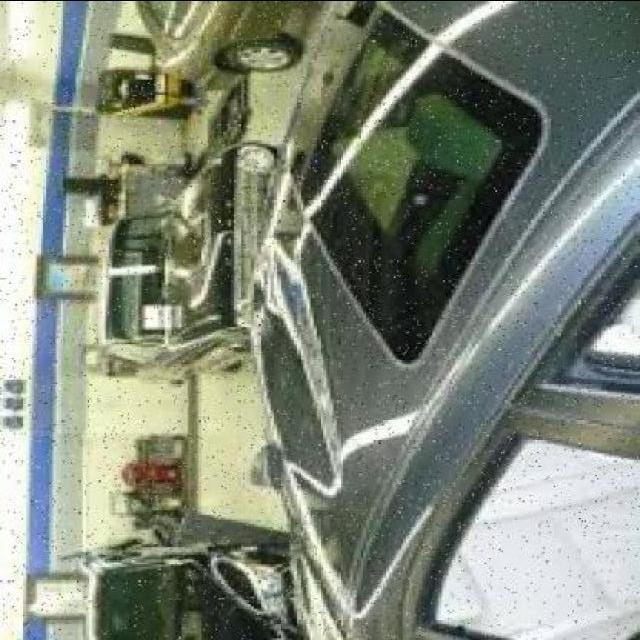roof-dent: (248, 175, 449, 595)
